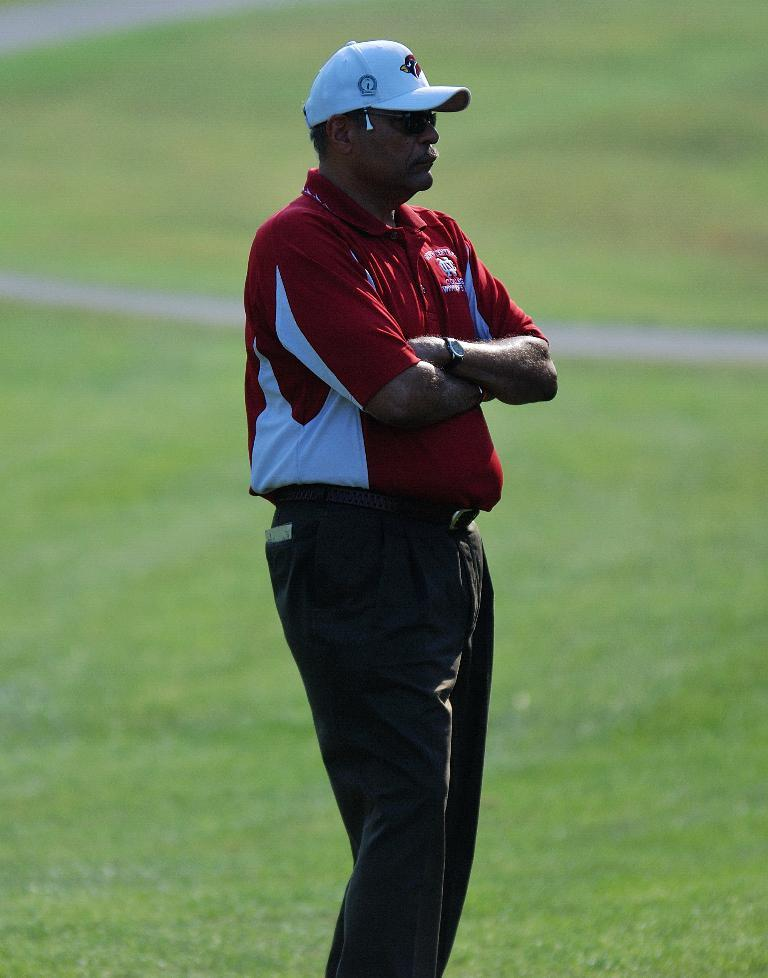Hat: (300, 40, 474, 127)
